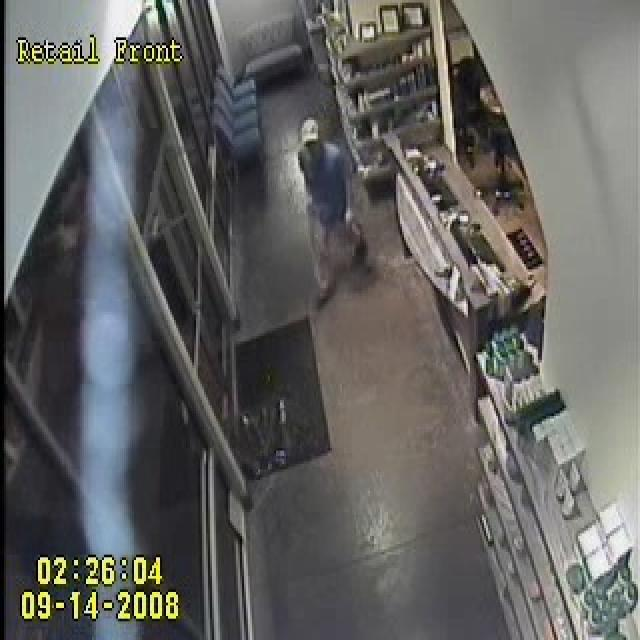thief: (276, 101, 343, 229)
